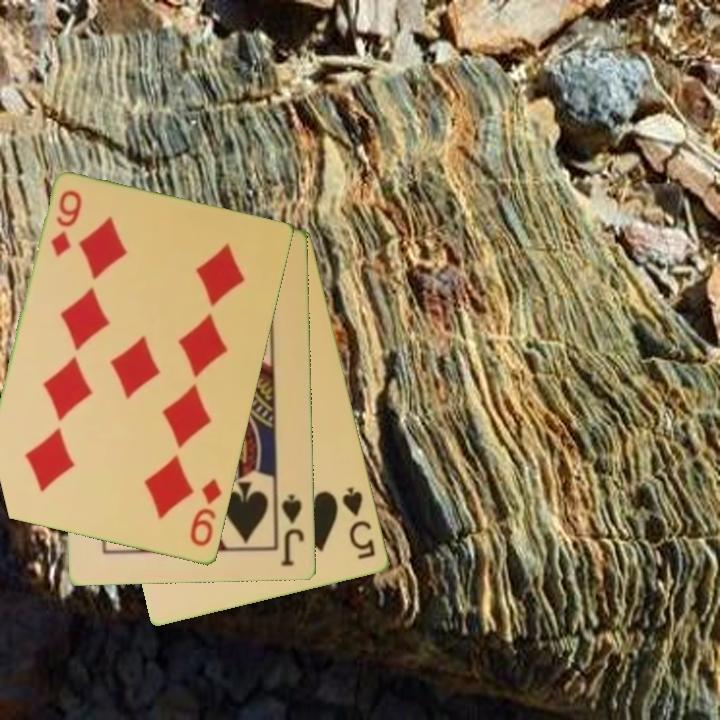5s: (339, 483, 379, 563)
9d: (187, 476, 225, 550), (47, 187, 85, 260)
Js: (277, 491, 308, 569)
